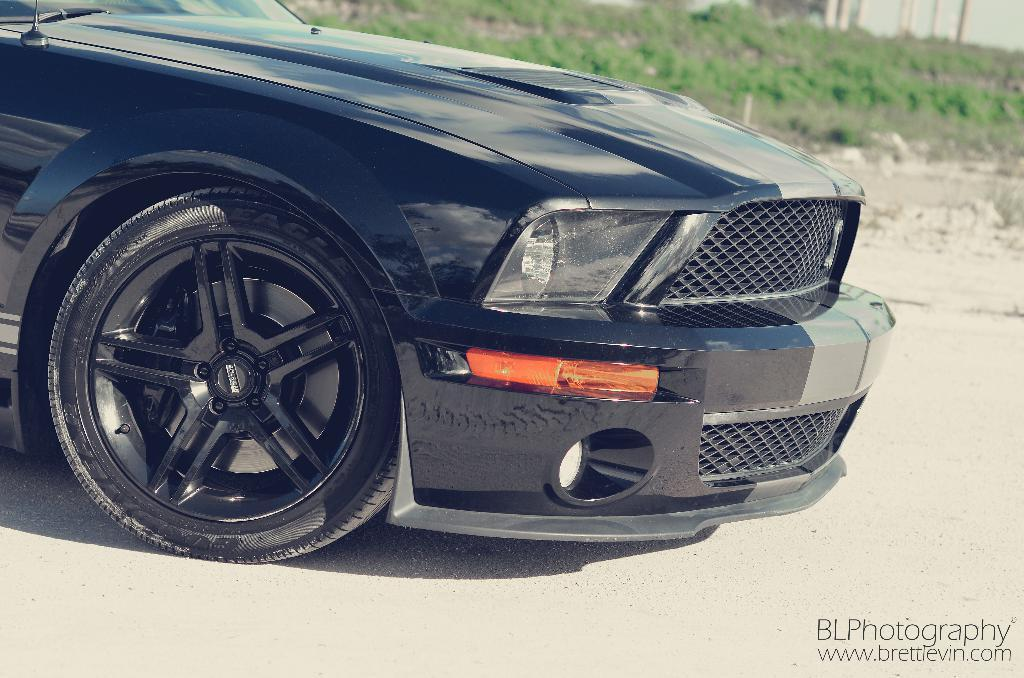Car: (0, 0, 900, 567)
